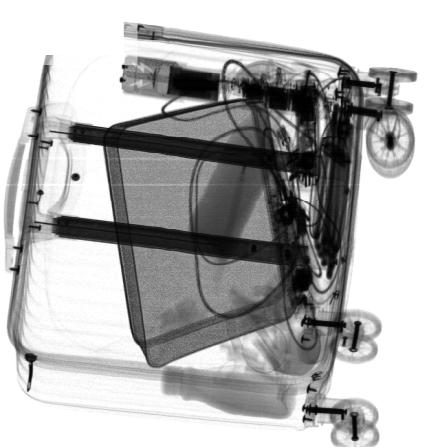Baton: (118, 55, 320, 128)
